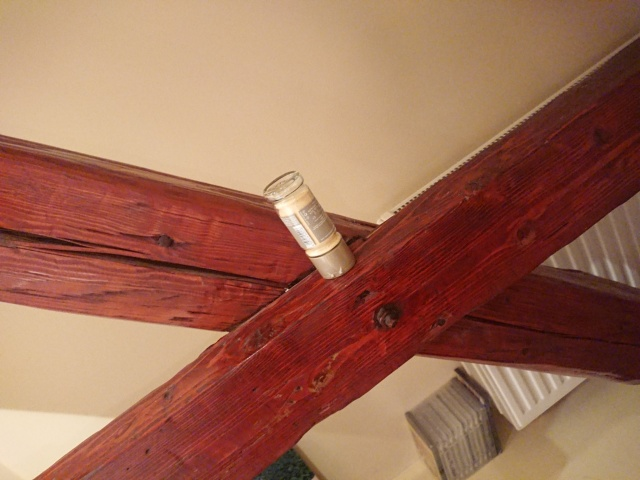Kotanyi Garlic Granules 70g: (261, 169, 358, 282)
